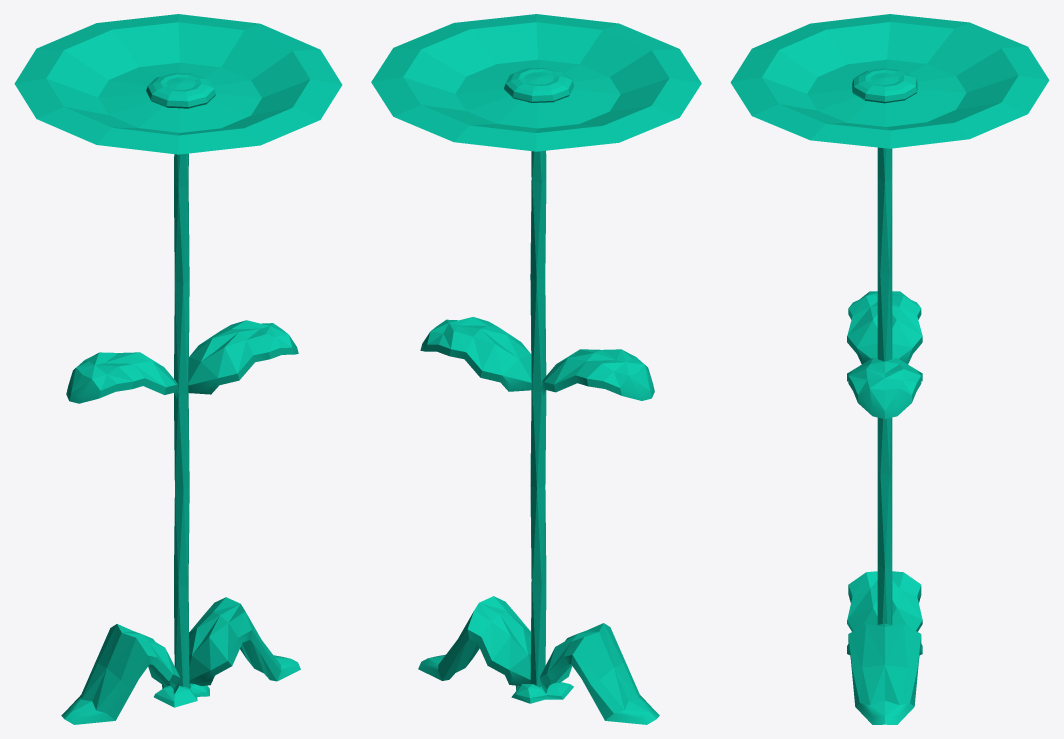
File: Flower_Fan.fbx
3 renders of one model, left to right at view 1: azimuth 30°, elevation 25°; view 2: azimuth 150°, elevation 25°; view 3: azimuth 270°, elevation 25°, orthographic. The views are drawn at different scales.
Visible parts, largest first — view 1: fanflower_0006:fanflower_0001:pCylinder2, fanflower_0006:Dandelion1:Mesh, fanflower_0006:pCylinder12, fanflower_0006:pCylinder11, fanflower_0006:pCylinder8, fanflower_0006:pCylinder9, fanflower_0006:pSphere21, fanflower_0006:fanflower:pCylinder4; view 2: fanflower_0006:fanflower_0001:pCylinder2, fanflower_0006:Dandelion1:Mesh, fanflower_0006:pCylinder12, fanflower_0006:pCylinder11, fanflower_0006:pCylinder8, fanflower_0006:pCylinder9, fanflower_0006:pSphere21, fanflower_0006:fanflower:pCylinder4; view 3: fanflower_0006:fanflower_0001:pCylinder2, fanflower_0006:Dandelion1:Mesh, fanflower_0006:pCylinder11, fanflower_0006:pCylinder9, fanflower_0006:pCylinder8, fanflower_0006:pCylinder12, fanflower_0006:pSphere21.
Boxes of the visible parts, x1,y1,x2,y2 form: fanflower_0006:fanflower_0001:pCylinder2: (14, 14, 342, 154); fanflower_0006:Dandelion1:Mesh: (174, 153, 189, 687); fanflower_0006:pCylinder12: (61, 624, 180, 724); fanflower_0006:pCylinder11: (189, 597, 300, 686); fanflower_0006:pCylinder8: (188, 320, 298, 394); fanflower_0006:pCylinder9: (66, 352, 178, 403); fanflower_0006:pSphere21: (146, 73, 215, 108); fanflower_0006:fanflower:pCylinder4: (154, 683, 209, 707); fanflower_0006:fanflower_0001:pCylinder2: (371, 14, 701, 151); fanflower_0006:Dandelion1:Mesh: (530, 150, 546, 686); fanflower_0006:pCylinder12: (540, 623, 659, 724); fanflower_0006:pCylinder11: (418, 596, 530, 685); fanflower_0006:pCylinder8: (420, 317, 531, 391); fanflower_0006:pCylinder9: (541, 349, 654, 400); fanflower_0006:pSphere21: (504, 67, 574, 102); fanflower_0006:fanflower:pCylinder4: (511, 682, 573, 703); fanflower_0006:fanflower_0001:pCylinder2: (730, 14, 1049, 148); fanflower_0006:Dandelion1:Mesh: (877, 147, 892, 624); fanflower_0006:pCylinder11: (847, 623, 922, 724); fanflower_0006:pCylinder9: (847, 291, 922, 364); fanflower_0006:pCylinder8: (847, 357, 922, 419); fanflower_0006:pCylinder12: (847, 571, 922, 631); fanflower_0006:pSphere21: (852, 68, 917, 103).
Size of the model in its own units: 9.31 by 19.22 by 9.31.
